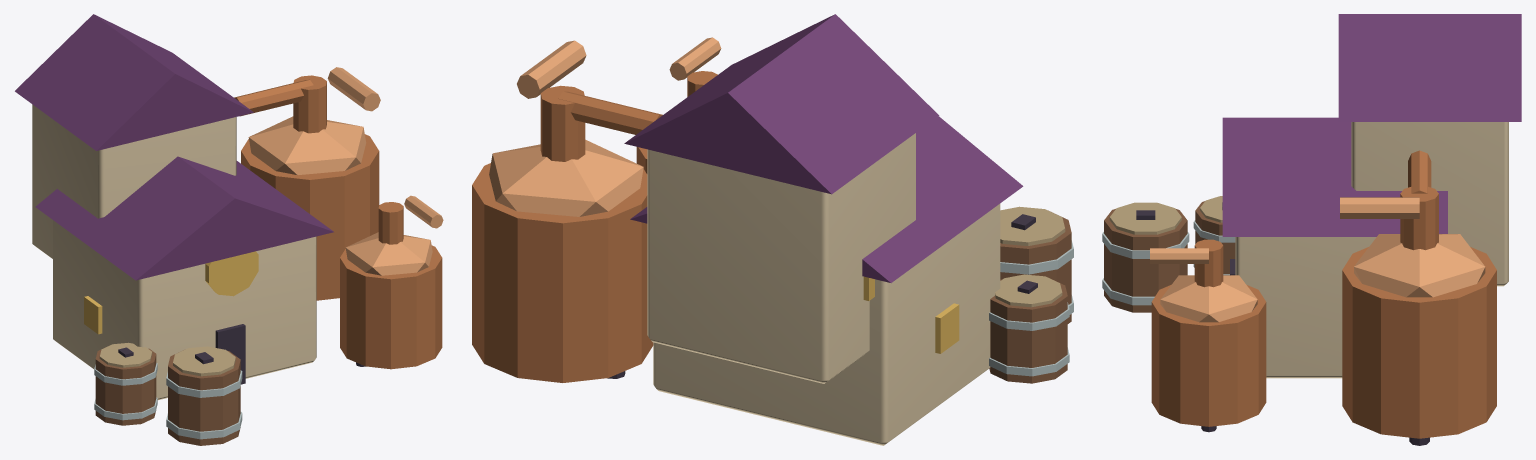
Rendered from brewhouse.glb.
The picture shows the model from 3 angles, left to right: view 1: azimuth 30°, elevation 25°; view 2: azimuth 150°, elevation 25°; view 3: azimuth 270°, elevation 25°; orthographic projection. The views are drawn at different scales.
Parts seen in each view (by area): view 1: Cube.013, gable.001, gable.002, Cube.017, Cone.073, Cone.082, Icosphere.067, Cone.078, Cone.088, Icosphere.066, Cone.092, Cone.083 (+12 smaller); view 2: Cube.017, Cube.013, Cone.082, gable.002, gable.001, Icosphere.067, Cone.088, Cone.083, Cone.087, Cone.078, Cone.084, Cone.081 (+6 smaller); view 3: Cone.082, gable.002, gable.001, Cube.017, Cube.013, Cone.073, Icosphere.067, Cone.078, Icosphere.066, Cone.083, Cone.084, Cone.081 (+7 smaller).
Part boxes in pixels (x1,y1,x2,y2): Cube.013: [53, 220, 316, 400]; gable.001: [35, 156, 333, 280]; gable.002: [15, 14, 253, 150]; Cube.017: [32, 104, 236, 258]; Cone.073: [340, 245, 442, 369]; Cone.082: [241, 134, 379, 300]; Icosphere.067: [248, 116, 366, 175]; Cone.078: [168, 350, 240, 445]; Cone.088: [95, 345, 156, 425]; Icosphere.066: [345, 232, 432, 275]; Cone.092: [205, 251, 258, 296]; Cone.083: [293, 75, 326, 133]; Cube.017: [647, 133, 915, 383]; Cube.013: [653, 204, 1000, 445]; Cone.082: [472, 163, 653, 382]; gable.002: [624, 14, 939, 194]; gable.001: [630, 116, 1023, 282]; Icosphere.067: [489, 139, 643, 216]; Cone.088: [989, 278, 1067, 383]; Cone.083: [540, 85, 585, 161]; Cone.087: [558, 91, 662, 134]; Cone.078: [1000, 210, 1071, 323]; Cone.084: [517, 40, 586, 98]; Cone.081: [1000, 206, 1065, 245]; Cone.082: [1342, 247, 1496, 438]; gable.002: [1338, 14, 1521, 121]; gable.001: [1222, 117, 1447, 236]; Cube.017: [1351, 122, 1508, 286]; Cube.013: [1235, 237, 1376, 378]; Cone.073: [1151, 285, 1266, 426]; Icosphere.067: [1354, 234, 1485, 297]; Cone.078: [1104, 209, 1187, 312]; Icosphere.066: [1160, 275, 1257, 322]; Cone.083: [1400, 187, 1438, 250]; Cone.084: [1340, 197, 1419, 218]; Cone.081: [1109, 202, 1181, 234].
Bounding box in the file's own units: 2.18 × 1.64 × 1.99.
